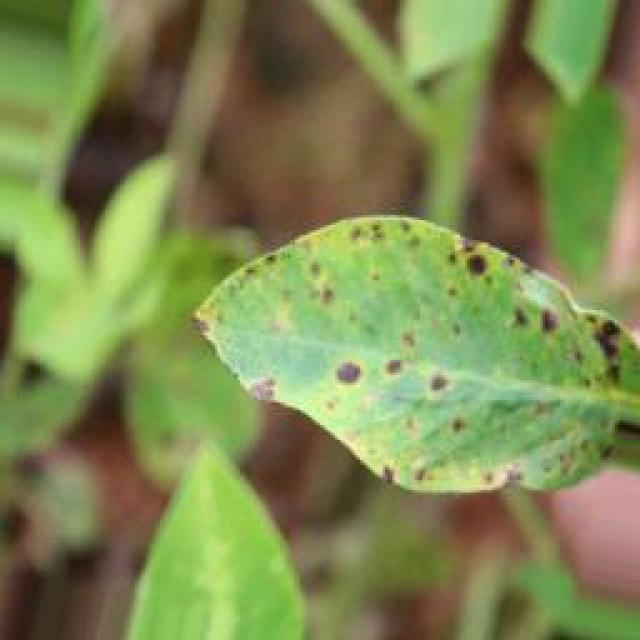Yellowish: (188, 180, 640, 536)
